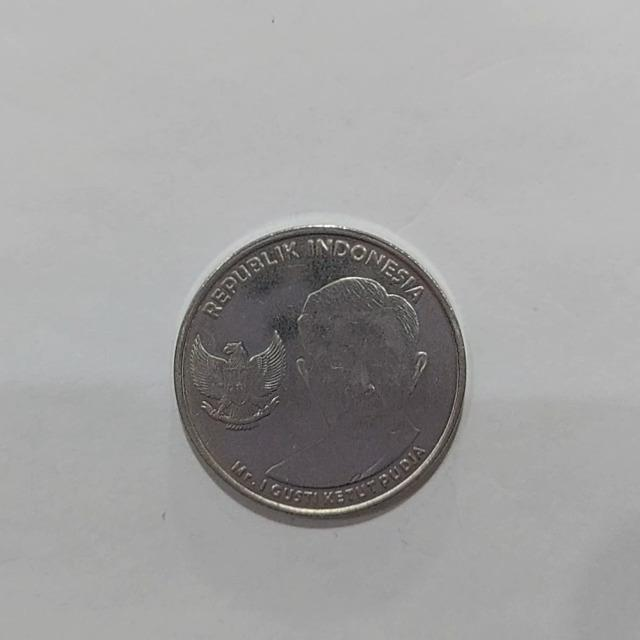Rp100: (171, 218, 468, 523)
